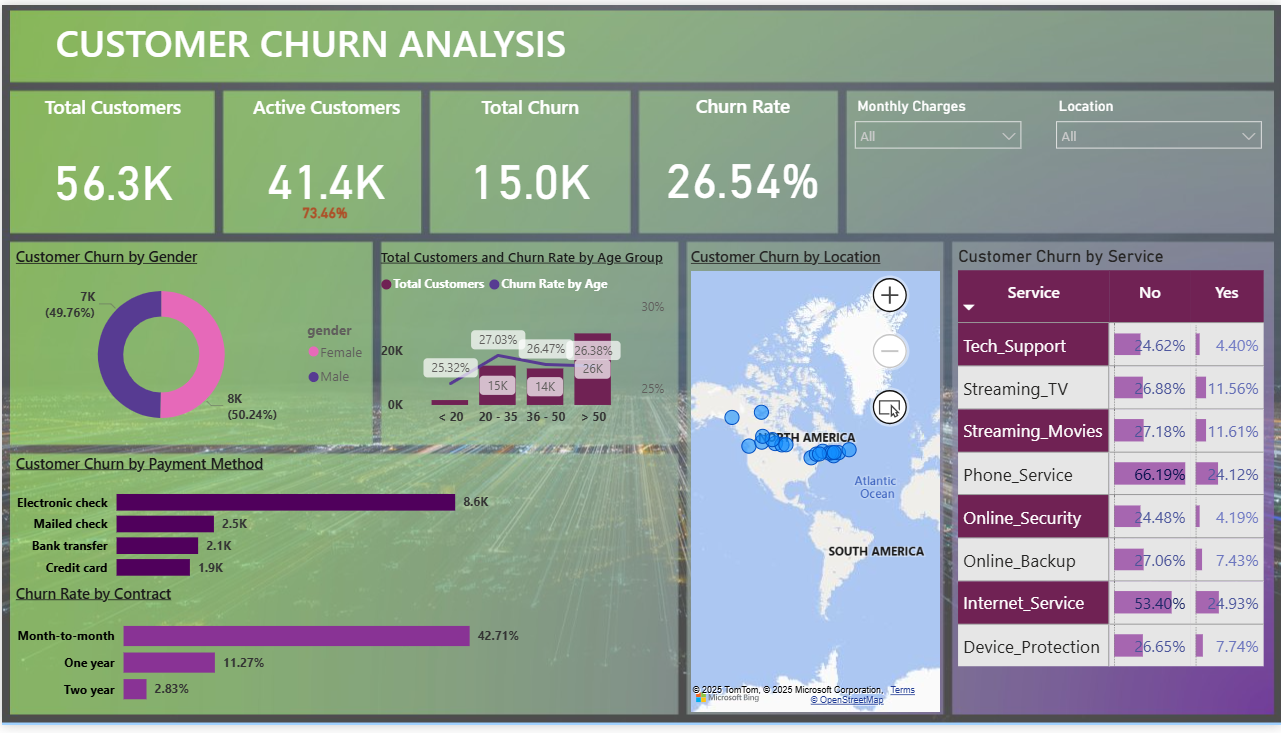

What the dashboard file says about the page in this screenshot:
{"tool":"powerbi","page":{"name":"Page 1","canvas":[1280,720],"ordinal":0},"visuals":[{"type":"textbox","box":[8.2,7.1,1260.6,71.5],"z":0},{"type":"card","title":"Total Customers","fields":{"Values":["Customer-Churn.Total Customers"]},"box":[8.2,88.8,204.1,140.9],"z":1000},{"type":"card","title":"Total Churn","fields":{"Values":["Customer-Churn.Total Churned"]},"box":[426.7,88.8,204,140],"z":2000,"group":"g1"},{"type":"barChart","title":"Customer Churn by Payment Method","fields":{"Category":["Customer-Churn.PaymentMethod"],"Y":["Customer-Churn.Churn Count by Payment Method"]},"box":[8.2,448.1,491,137.8],"z":2000},{"type":"card","fields":{"Values":["Customer-Churn.Active Customer %"]},"box":[224,192.4,198.4,33.8],"z":3000,"group":"g3"},{"type":"barChart","fields":{"Category":["Customer-Churn.Contract"],"Y":["Customer-Churn.Churn Rate"]},"box":[8.2,577.7,514.4,133.7],"z":3000},{"type":"card","title":"Churn Rate","fields":{"Values":["Customer-Churn.Churn Rate"]},"box":[639,87.8,204,140.9],"z":4000},{"type":"group","id":"g1","title":"Group 1","box":[426.7,88.8,204.1,139.8],"z":5000},{"type":"donutChart","title":"Customer Churn by Gender","fields":{"Category":["Customer-Churn.gender"],"Y":["Customer-Churn.Churned Customers"]},"box":[8.2,240.9,366.4,197],"z":6000},{"type":"pivotTable","title":"Customer Churn by Service","fields":{"Rows":["Customer-Churn.Service"],"Columns":["Customer-Churn.Churn"],"Values":["Customer-Churn.Churn %"]},"box":[951.3,240.9,317.4,449.1],"z":7000},{"type":"lineClusteredColumnComboChart","title":"Total Customers and Churn Rate by Age Group","fields":{"Y":["Customer-Churn.Total Customers"],"Category":["Customer-Churn.Age Group"],"Y2":["Customer-Churn.Churn Rate by Age"]},"box":[374.1,242.2,296,187.1],"z":9000},{"type":"map","title":"Customer Churn by Location","fields":{"Size":["Customer-Churn.Customer Count"],"Category":["Customer-Churn.Location"]},"box":[683.9,240.9,259.3,470.6],"z":12000},{"type":"group","id":"g2","title":"Group 2","box":[222.5,88.8,204,140],"z":13000},{"type":"slicer","fields":{"Values":["Customer-Churn.Monthly Charge Group"]},"box":[842.9,87.1,187.1,68.6],"z":14000},{"type":"card","title":"Active Customers","fields":{"Values":["Customer-Churn.Active Customers"]},"box":[222.5,88.8,204,140],"z":14000,"group":"g2"},{"type":"slicer","fields":{"Values":["Customer-Churn.Location"]},"box":[1044.3,87.1,225.7,68.6],"z":15000},{"type":"group","id":"g3","title":"Group 1","box":[224,192.4,198.4,33.8],"z":15000,"group":"g2"}]}

Visuals, with their boxes in screenshot pixels (x1, y1, x2, y2), scaled from the page's 1280x720 canvas onto the 1281x733 screenshot:
textbox: left=8, top=7, right=1270, bottom=80
"Total Customers" card: left=8, top=90, right=212, bottom=234
"Total Churn" card: left=427, top=90, right=631, bottom=233
"Customer Churn by Payment Method" barChart: left=8, top=456, right=500, bottom=596
card - Customer-Churn.Active Customer %: left=224, top=196, right=423, bottom=230
barChart - Customer-Churn.Contract x Customer-Churn.Churn Rate: left=8, top=588, right=523, bottom=724
"Churn Rate" card: left=639, top=89, right=844, bottom=233
"Group 1" group: left=427, top=90, right=631, bottom=233
"Customer Churn by Gender" donutChart: left=8, top=245, right=375, bottom=446
"Customer Churn by Service" pivotTable: left=952, top=245, right=1270, bottom=702
"Total Customers and Churn Rate by Age Group" lineClusteredColumnComboChart: left=374, top=247, right=671, bottom=437
"Customer Churn by Location" map: left=684, top=245, right=944, bottom=724
"Group 2" group: left=223, top=90, right=427, bottom=233
slicer - Customer-Churn.Monthly Charge Group: left=844, top=89, right=1031, bottom=159
"Active Customers" card: left=223, top=90, right=427, bottom=233
slicer - Customer-Churn.Location: left=1045, top=89, right=1271, bottom=159
"Group 1" group: left=224, top=196, right=423, bottom=230
